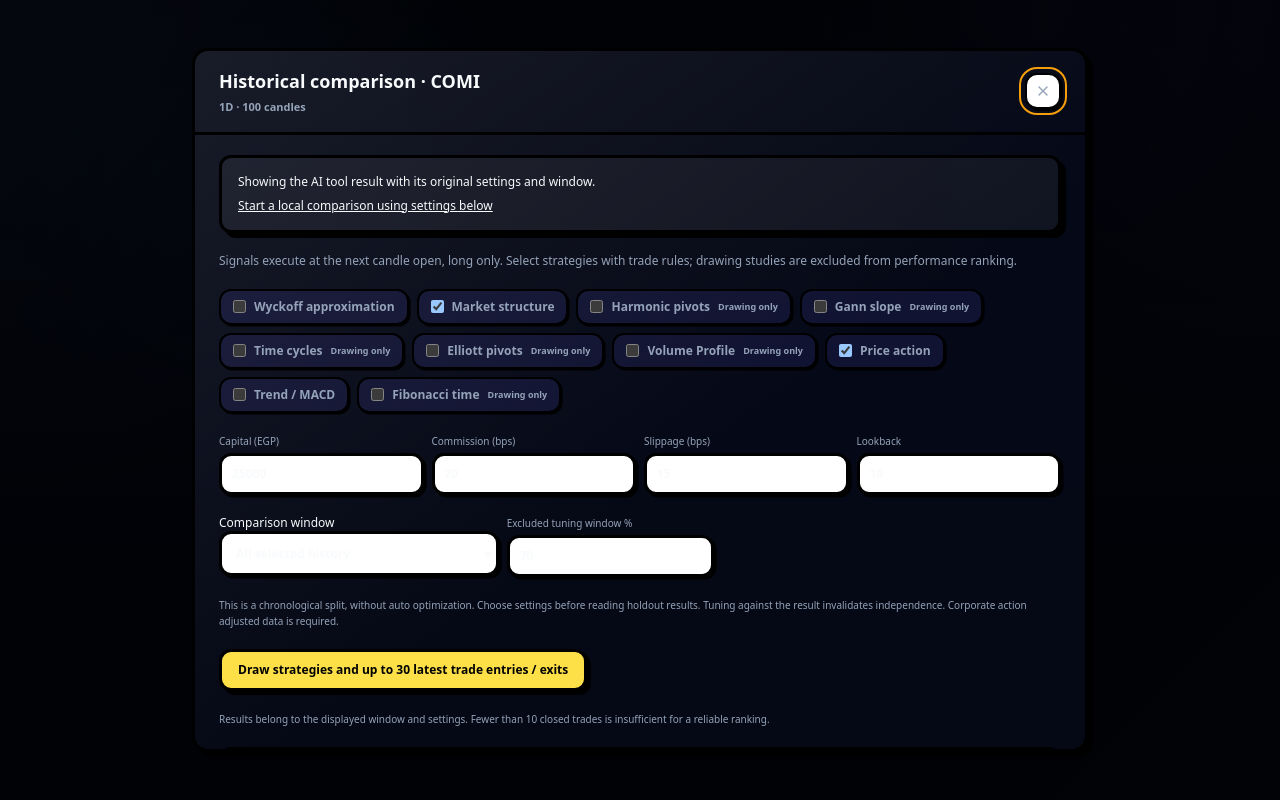
Test: editing Commission (bps) invalidates AI view and recalculates immediately
Expected: the number field labelled "Capital (EGP)" holds "25000", [219, 452, 424, 494]
Replace the text in the number field labelled "Commission (bps)" with "40" at [534, 474], box [432, 452, 636, 494]
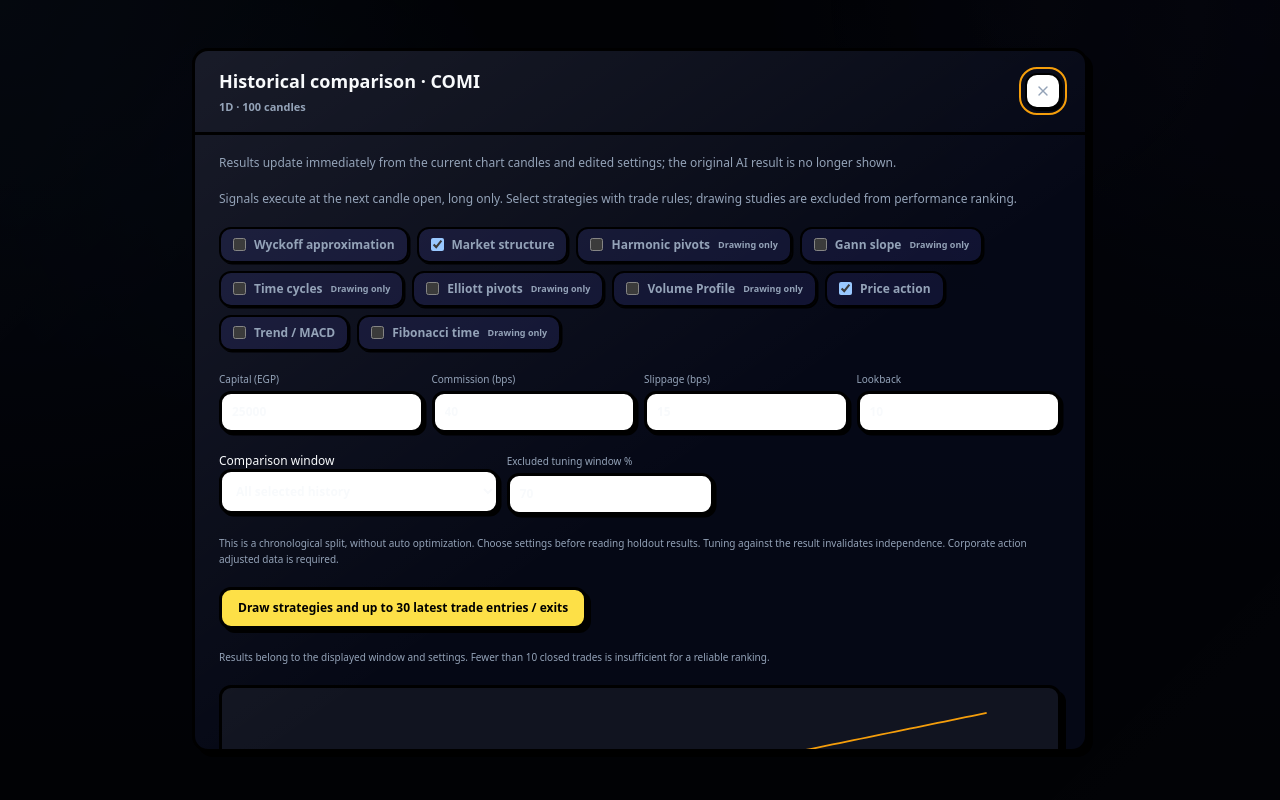
Expected: the message shows "Results update immediately", [219, 154, 896, 170]
